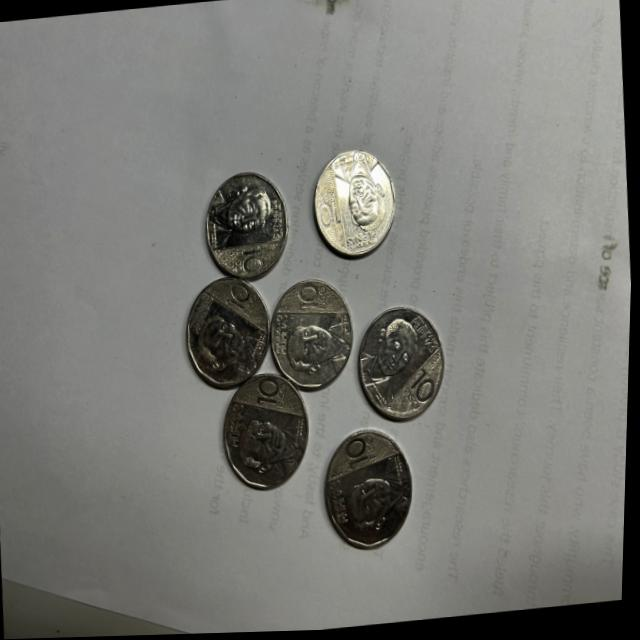10_New_Front: (338, 435, 380, 478), (400, 377, 441, 419), (290, 284, 335, 314), (224, 279, 261, 314), (315, 192, 342, 239), (231, 247, 270, 279), (254, 381, 293, 409)
